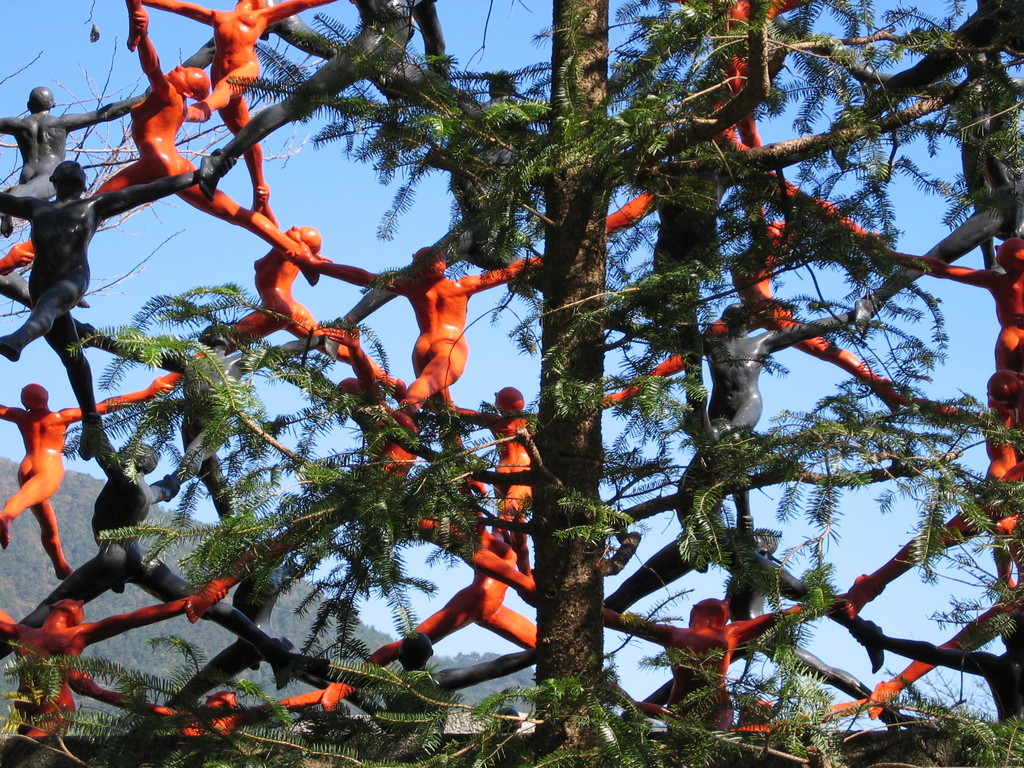Person: (0, 0, 1023, 737)
